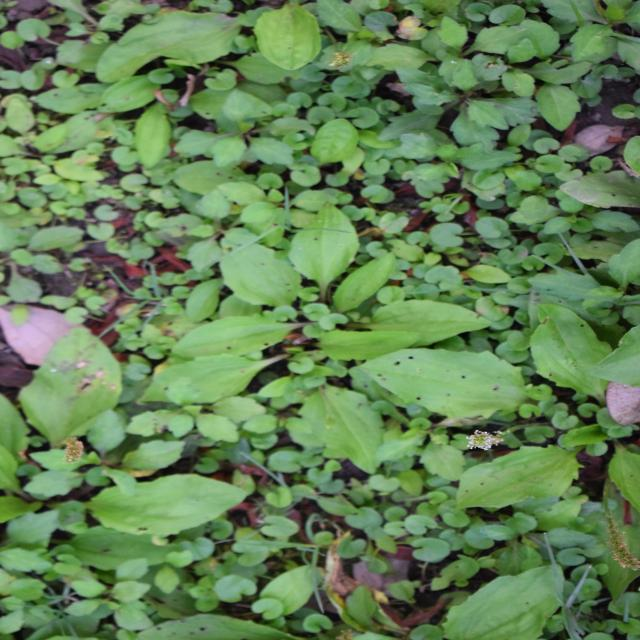plantain: (196, 176, 434, 492)
